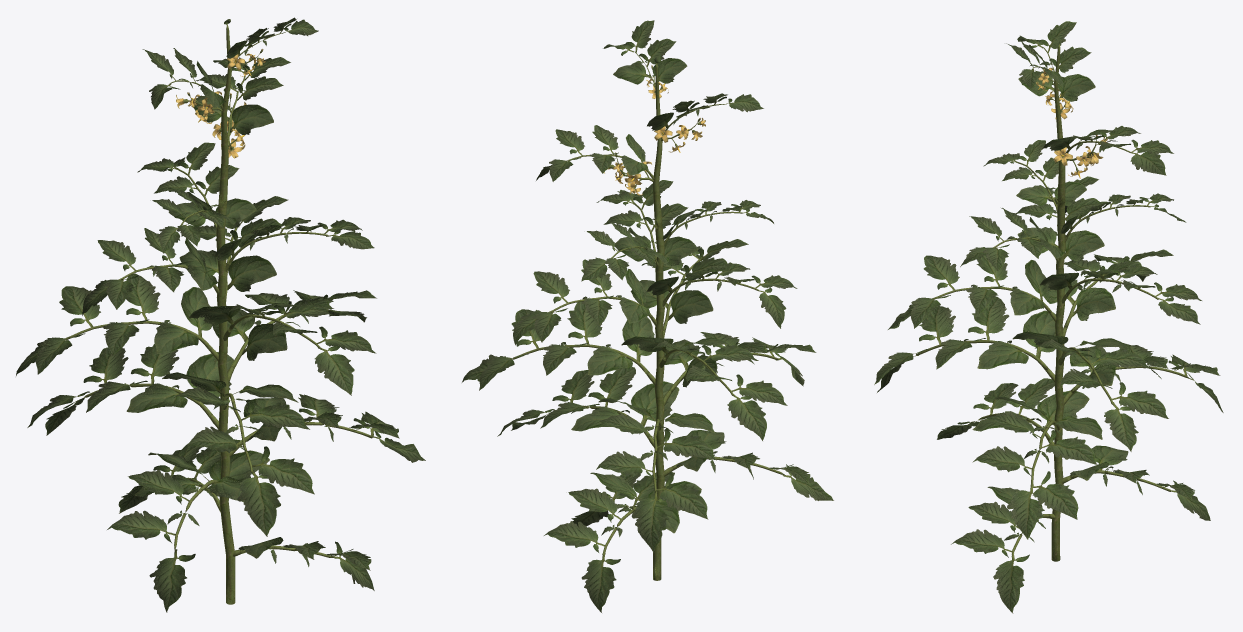
File: tomato1.dae
3 views of the same model, side by side, from view 1: azimuth 30°, elevation 25°; view 2: azimuth 150°, elevation 25°; view 3: azimuth 270°, elevation 25° (orthographic). The views are drawn at different scales.
Visible parts, largest first — view 1: Leaf2, Leaf1, Branch1, Blossom1; view 2: Leaf2, Leaf1, Branch1, Blossom1; view 3: Leaf2, Leaf1, Branch1, Blossom1.
Part boxes in pixels (box(x1,y1,x2,y2)): Leaf2: box(16, 17, 425, 612); Leaf1: box(126, 19, 298, 558); Branch1: box(65, 24, 372, 604); Blossom1: box(176, 49, 265, 158); Leaf2: box(462, 20, 833, 612); Leaf1: box(571, 54, 730, 533); Branch1: box(512, 51, 785, 580); Blossom1: box(604, 65, 705, 195); Leaf2: box(874, 21, 1223, 613); Leaf1: box(972, 37, 1131, 503); Branch1: box(916, 44, 1188, 561); Blossom1: box(1032, 68, 1107, 176).
Bounding box in the file's own units: 0.8454 × 0.8267 × 1.35.
